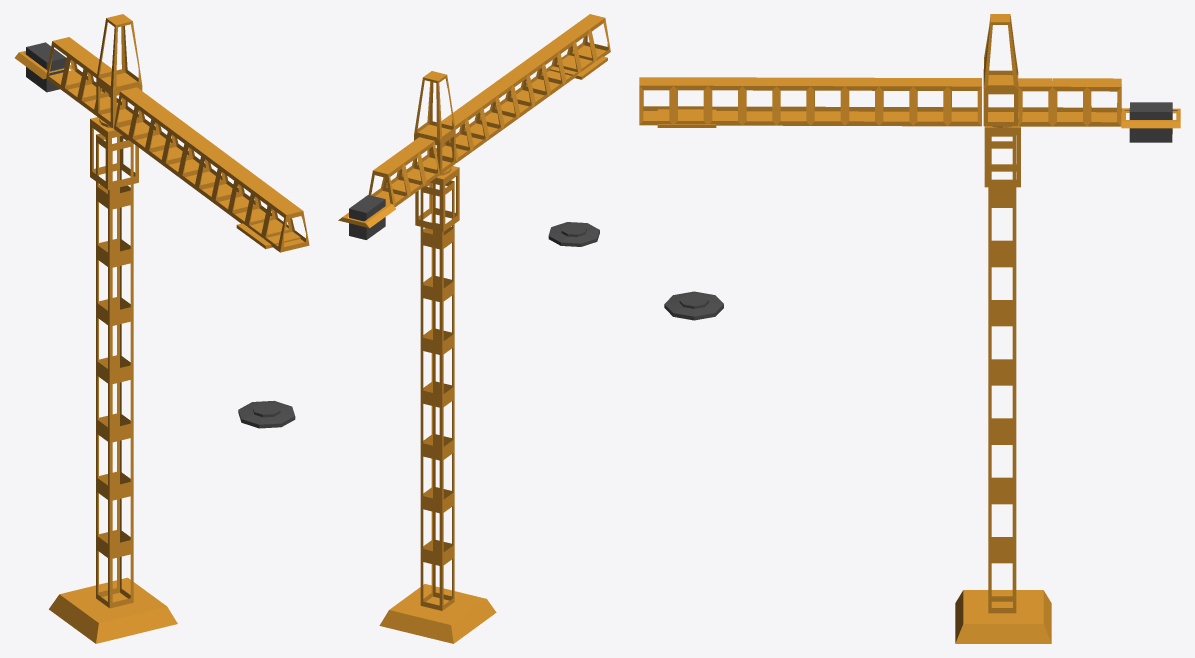
Rendered from craneFinal.fbx.
The picture shows the model from 3 angles, left to right: view 1: azimuth 30°, elevation 25°; view 2: azimuth 150°, elevation 25°; view 3: azimuth 270°, elevation 25°; orthographic projection. The views are drawn at different scales.
Visible parts, largest first — view 1: Crane; view 2: Crane; view 3: Crane.
Boxes of the visible parts, bbox=[...] form: Crane: bbox=[14, 14, 309, 643]; Crane: bbox=[338, 14, 610, 643]; Crane: bbox=[639, 14, 1180, 643].
Size of the model in its own units: 209 by 1453 by 1174.
